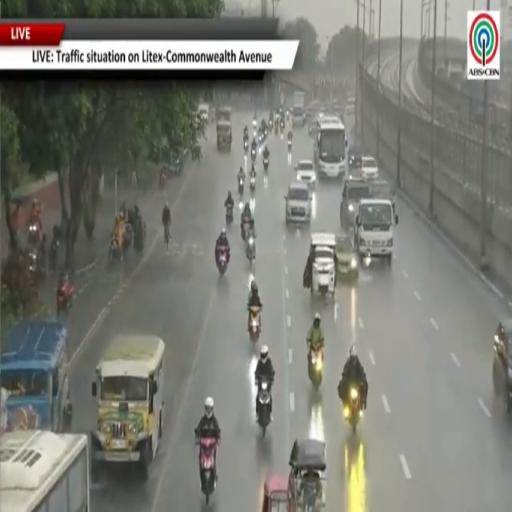bus: (0, 430, 90, 511), (314, 116, 346, 178)
car: (493, 318, 511, 412), (340, 179, 371, 228), (285, 182, 311, 225), (336, 234, 359, 282), (369, 179, 395, 214), (295, 160, 315, 187), (361, 156, 378, 180), (198, 103, 209, 122)
jeepney: (91, 335, 164, 481), (0, 320, 72, 431), (217, 121, 232, 150), (216, 107, 232, 122)
motorcycle: (197, 438, 217, 504), (343, 385, 363, 435), (257, 378, 271, 438), (57, 280, 74, 315), (309, 347, 323, 389), (49, 237, 60, 272), (249, 307, 260, 342), (109, 237, 123, 262), (27, 222, 41, 246), (246, 234, 255, 264), (218, 249, 227, 275), (242, 218, 250, 242), (226, 205, 233, 229), (164, 226, 170, 250), (159, 170, 166, 189), (239, 179, 244, 197), (250, 176, 255, 193), (268, 117, 273, 132), (251, 148, 256, 163), (280, 119, 285, 133), (264, 157, 269, 171), (244, 140, 248, 153), (286, 109, 290, 120), (259, 132, 263, 143), (275, 121, 278, 135), (288, 140, 291, 153)
tricycle: (289, 439, 326, 511), (262, 474, 291, 511)
truck: (292, 91, 305, 125)
